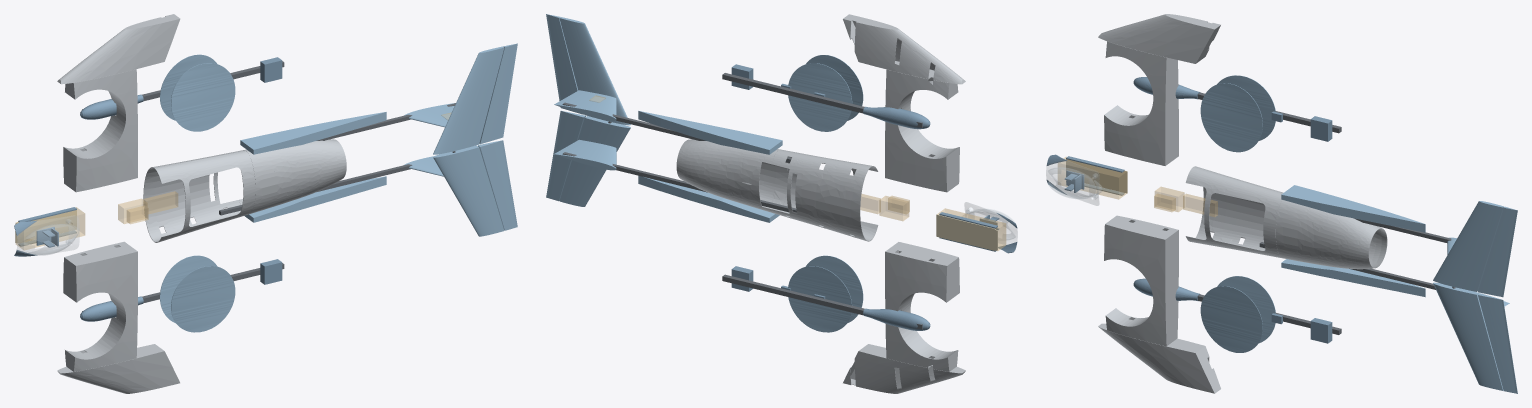
Rendered from v19r_boom_rotors.glb.
3 renders of one model, left to right at view 1: azimuth 30°, elevation 25°; view 2: azimuth 150°, elevation 25°; view 3: azimuth 330°, elevation 25°, orthographic.
Visible parts, largest first — view 1: F3_hollow_body, WLB_hollow_wing, WRB_hollow_wing, F4_hollow_body, WRE1_falcon_wing, NEW_front_well_cap_upper_R, NEW_tail_stab_R, NEW_tail_stab_L, NEW_front_well_cap_upper_L, WLE1_falcon_wing, NEW_F5_root_fairing_R, NEW_canopy_clear_PETG (+16 smaller); view 2: WLB_hollow_wing, F3_hollow_body, F4_hollow_body, WRB_hollow_wing, WRE1_falcon_wing, WLE1_falcon_wing, NEW_front_well_cap_lower_R, NEW_front_well_cap_lower_L, NEW_tail_stab_R, NEW_tail_stab_L, NEW_F5_root_fairing_R, NEW_F5_root_fairing_L (+16 smaller); view 3: WLB_hollow_wing, F3_hollow_body, WRB_hollow_wing, F4_hollow_body, WRE1_falcon_wing, NEW_front_well_cap_upper_R, NEW_tail_stab_R, WLE1_falcon_wing, NEW_tail_stab_L, NEW_front_well_cap_upper_L, NEW_F5_root_fairing_R, NEW_tail_elevator_L (+15 smaller).
Part boxes in pixels (left/top/right/bottom): F3_hollow_body: left=143, top=150, right=255, bottom=242; WLB_hollow_wing: left=63, top=241, right=137, bottom=371; WRB_hollow_wing: left=63, top=69, right=137, bottom=192; F4_hollow_body: left=239, top=139, right=346, bottom=213; WRE1_falcon_wing: left=57, top=14, right=180, bottom=84; NEW_front_well_cap_upper_R: left=171, top=63, right=235, bottom=131; NEW_tail_stab_R: left=433, top=46, right=504, bottom=154; NEW_tail_stab_L: left=433, top=145, right=504, bottom=236; NEW_front_well_cap_upper_L: left=171, top=266, right=235, bottom=332; WLE1_falcon_wing: left=57, top=344, right=179, bottom=393; NEW_F5_root_fairing_R: left=240, top=112, right=386, bottom=154; NEW_canopy_clear_PETG: left=17, top=215, right=79, bottom=255; WLB_hollow_wing: left=885, top=242, right=959, bottom=371; F3_hollow_body: left=771, top=149, right=878, bottom=241; F4_hollow_body: left=676, top=139, right=787, bottom=213; WRB_hollow_wing: left=885, top=69, right=959, bottom=192; WRE1_falcon_wing: left=843, top=14, right=965, bottom=84; WLE1_falcon_wing: left=843, top=344, right=965, bottom=393; NEW_front_well_cap_lower_R: left=788, top=63, right=852, bottom=131; NEW_front_well_cap_lower_L: left=788, top=266, right=852, bottom=332; NEW_tail_stab_R: left=559, top=17, right=630, bottom=125; NEW_tail_stab_L: left=559, top=116, right=630, bottom=206; NEW_F5_root_fairing_R: left=638, top=110, right=782, bottom=154; NEW_F5_root_fairing_L: left=638, top=175, right=779, bottom=222; WLB_hollow_wing: left=1104, top=215, right=1178, bottom=346; F3_hollow_body: left=1185, top=166, right=1283, bottom=257; WRB_hollow_wing: left=1104, top=41, right=1178, bottom=165; F4_hollow_body: left=1276, top=200, right=1387, bottom=269; WRE1_falcon_wing: left=1098, top=14, right=1220, bottom=63; NEW_front_well_cap_upper_R: left=1200, top=83, right=1262, bottom=152; NEW_tail_stab_R: left=1433, top=201, right=1504, bottom=291; WLE1_falcon_wing: left=1098, top=323, right=1220, bottom=393; NEW_tail_stab_L: left=1433, top=282, right=1503, bottom=390; NEW_front_well_cap_upper_L: left=1200, top=286, right=1262, bottom=352; NEW_F5_root_fairing_R: left=1281, top=185, right=1425, bottom=232; NEW_tail_elevator_L: left=1478, top=293, right=1517, bottom=393.
Size of the model in its own units: 1109 by 794 by 128.
